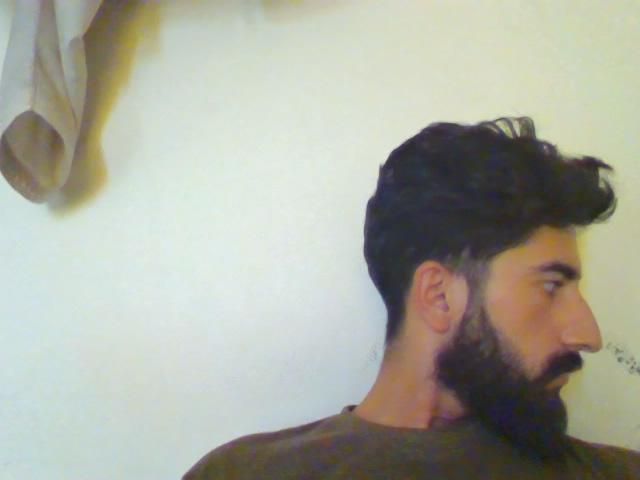hairnetless: (344, 132, 640, 274), (464, 294, 524, 331)
